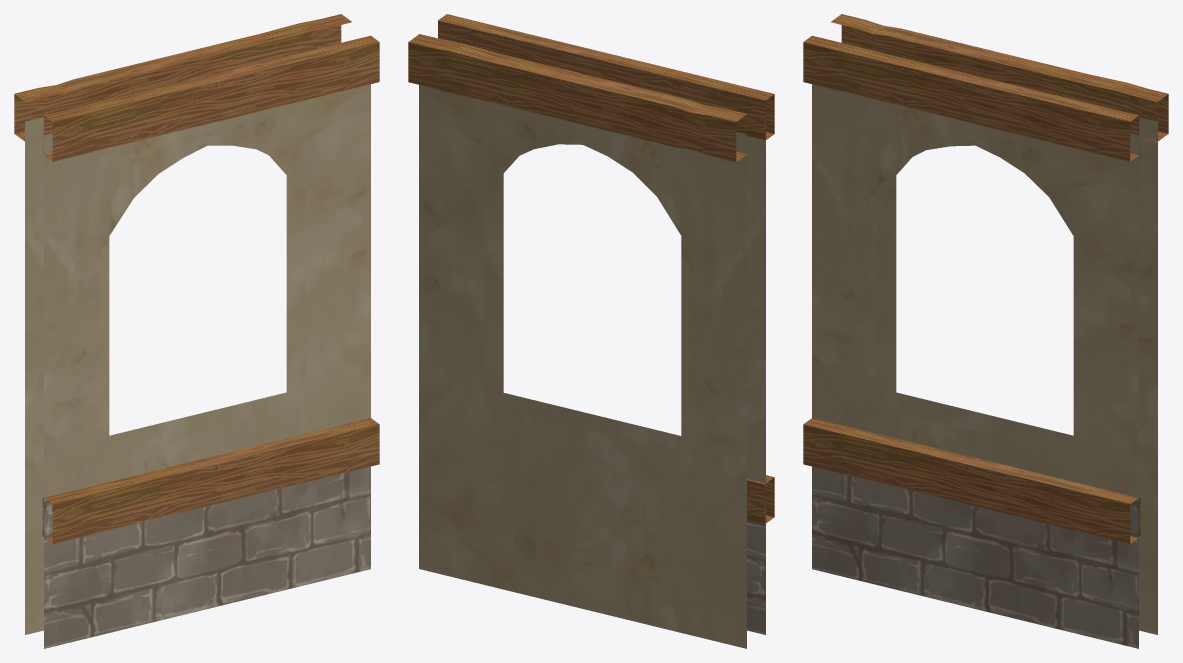
Rendered from Wall_Plaster_Window_Wide_Round.glb.
The picture shows the model from 3 angles, left to right: view 1: azimuth 30°, elevation 25°; view 2: azimuth 150°, elevation 25°; view 3: azimuth 330°, elevation 25°; orthographic projection.
Parts seen in each view (by area): view 1: Wall_Plaster_Window_Wide_Round; view 2: Wall_Plaster_Window_Wide_Round; view 3: Wall_Plaster_Window_Wide_Round.
Part boxes in pixels (box(x1,y1,x2,y2)): Wall_Plaster_Window_Wide_Round: box(14, 14, 379, 648); Wall_Plaster_Window_Wide_Round: box(408, 14, 774, 648); Wall_Plaster_Window_Wide_Round: box(803, 14, 1168, 648).
Size of the model in its own units: 2 by 3.12 by 0.4065.
Materials: 3 (3 with a texture image).
